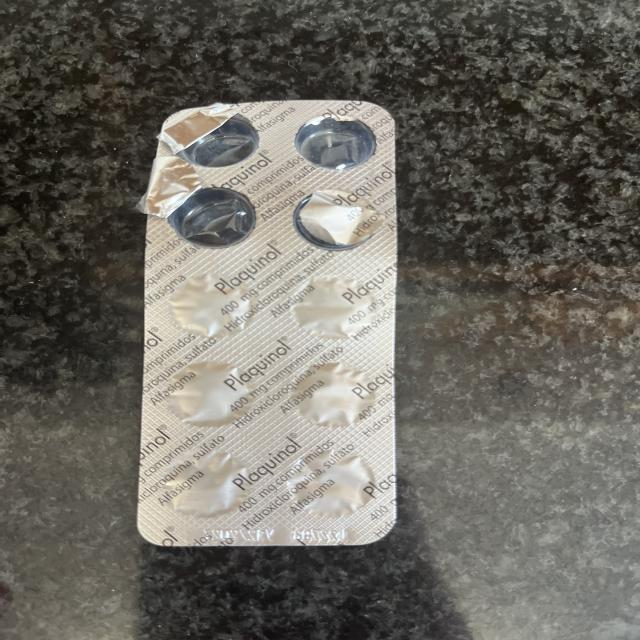Empty: (156, 184, 265, 248), (288, 184, 382, 253), (290, 107, 378, 172), (169, 113, 265, 172)
Pill: (278, 447, 379, 521), (284, 357, 381, 431), (161, 274, 265, 343), (153, 448, 252, 520), (159, 359, 257, 429), (286, 272, 381, 343)
